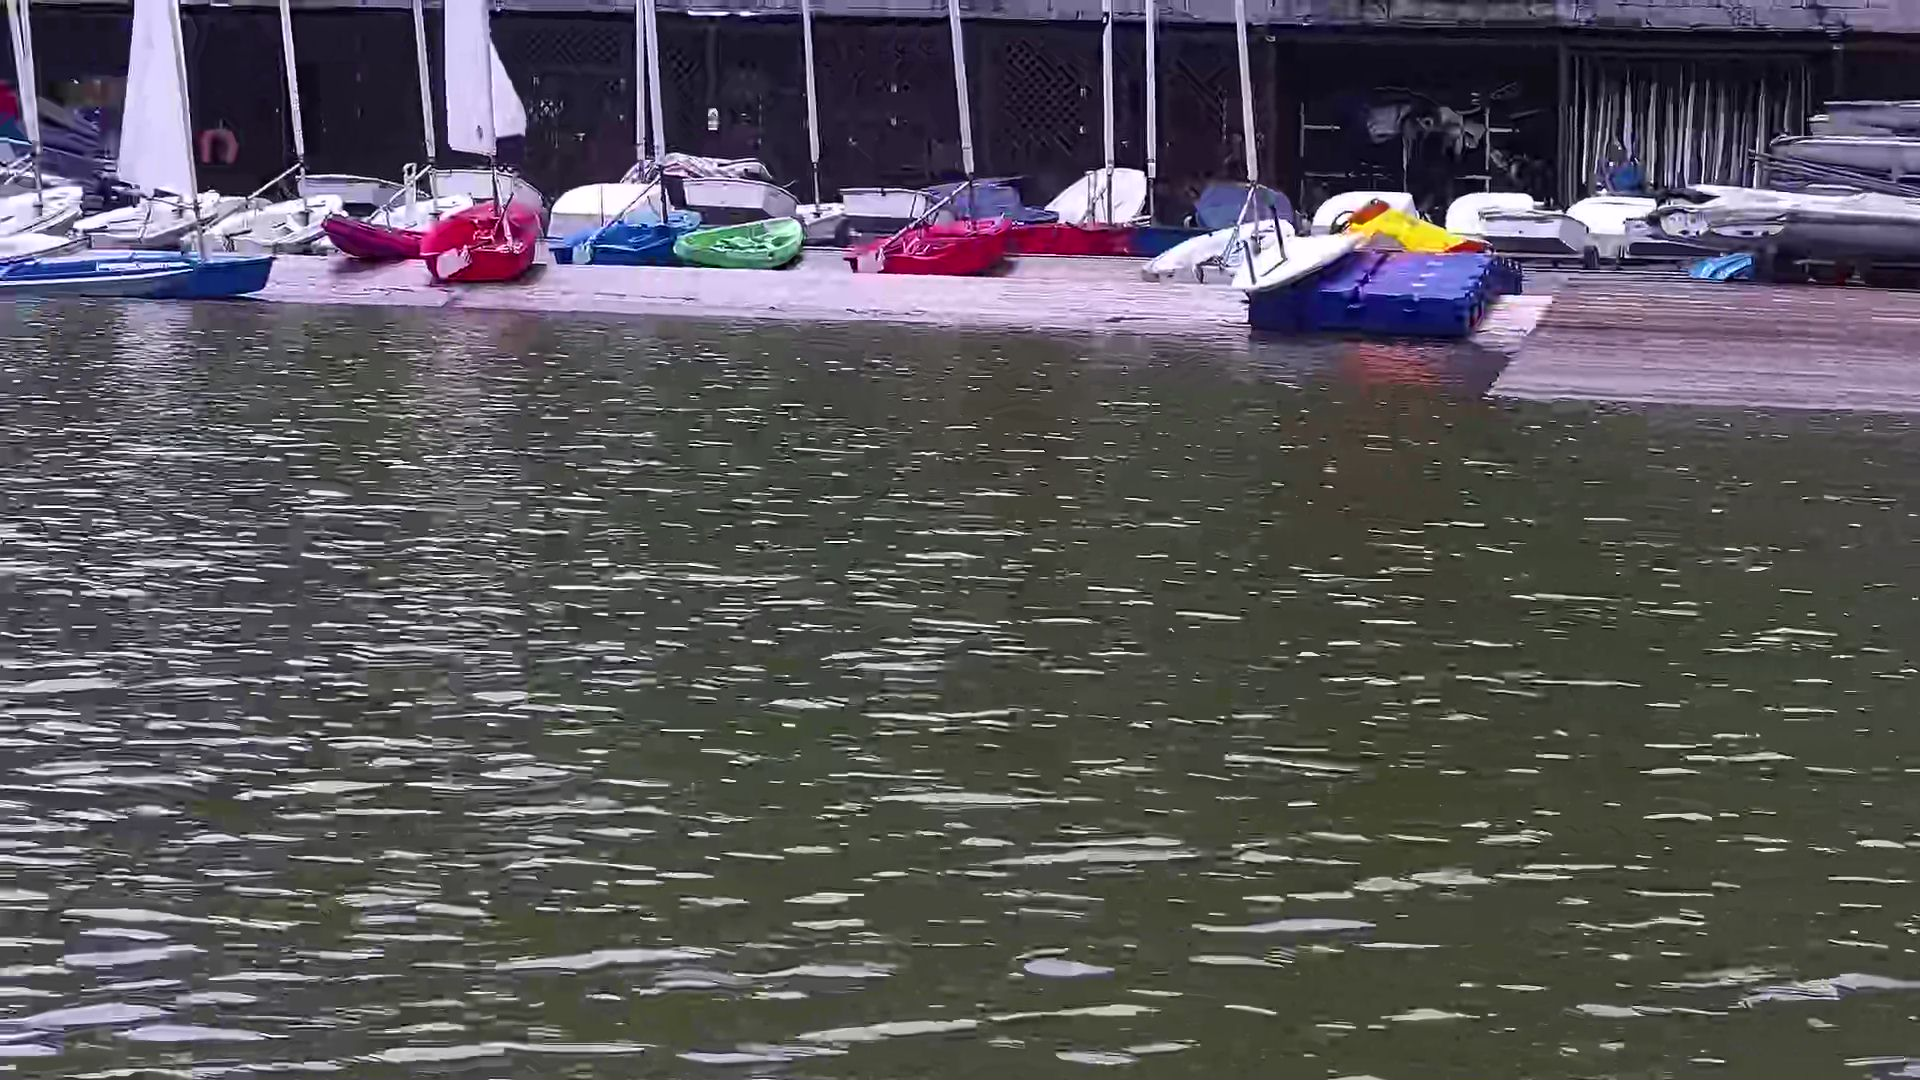harbor: (17, 152, 1913, 401)
